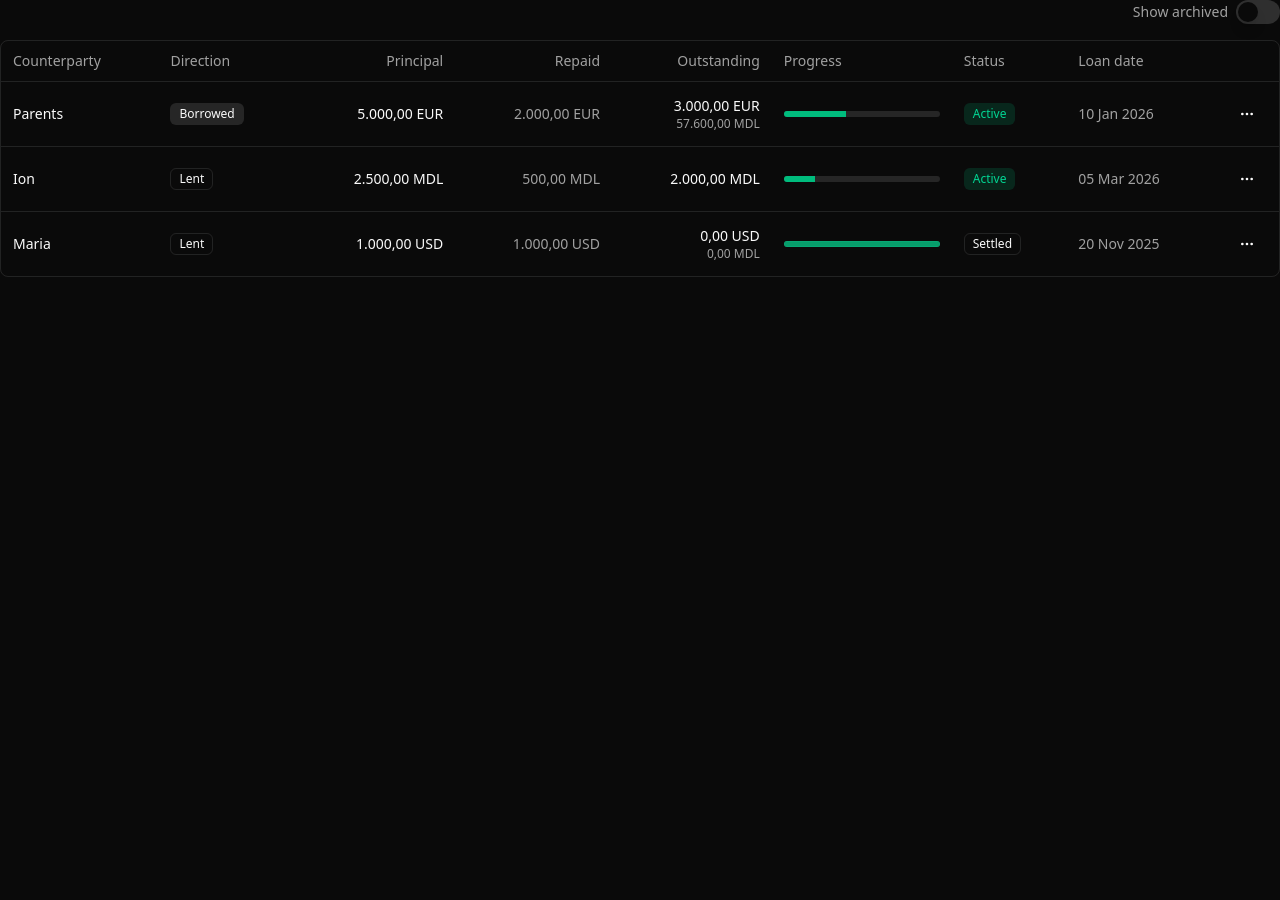
Scenario: LoansTable › opens then closes the Record-payment dialog from an active row
This screenshot has width=1280, height=900.
Click the button with test id "loan-actions" at (1247, 178), box [1227,158,1267,198]
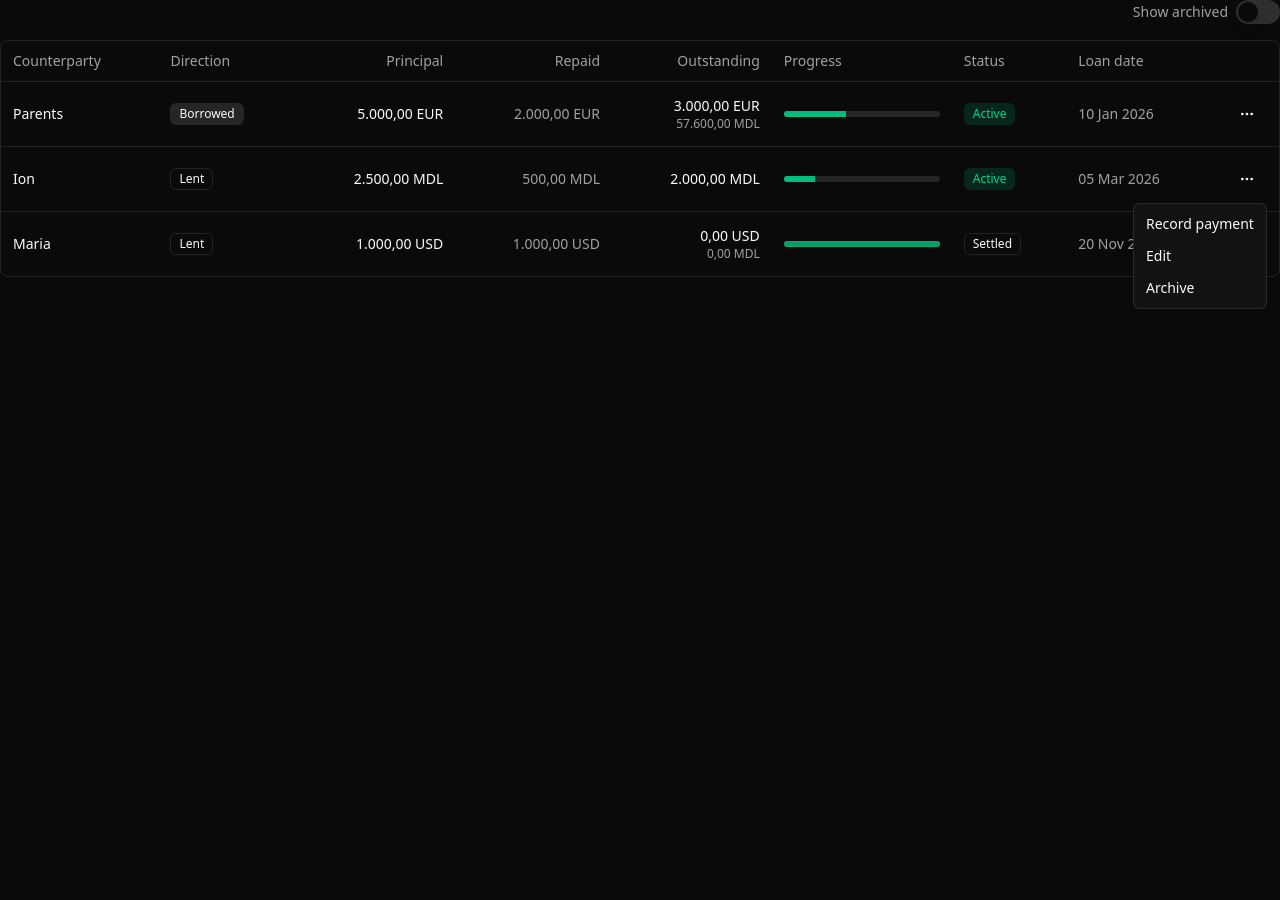
Click the menu item with test id "record-payment-action" at (1200, 224), box [1146,214,1254,233]
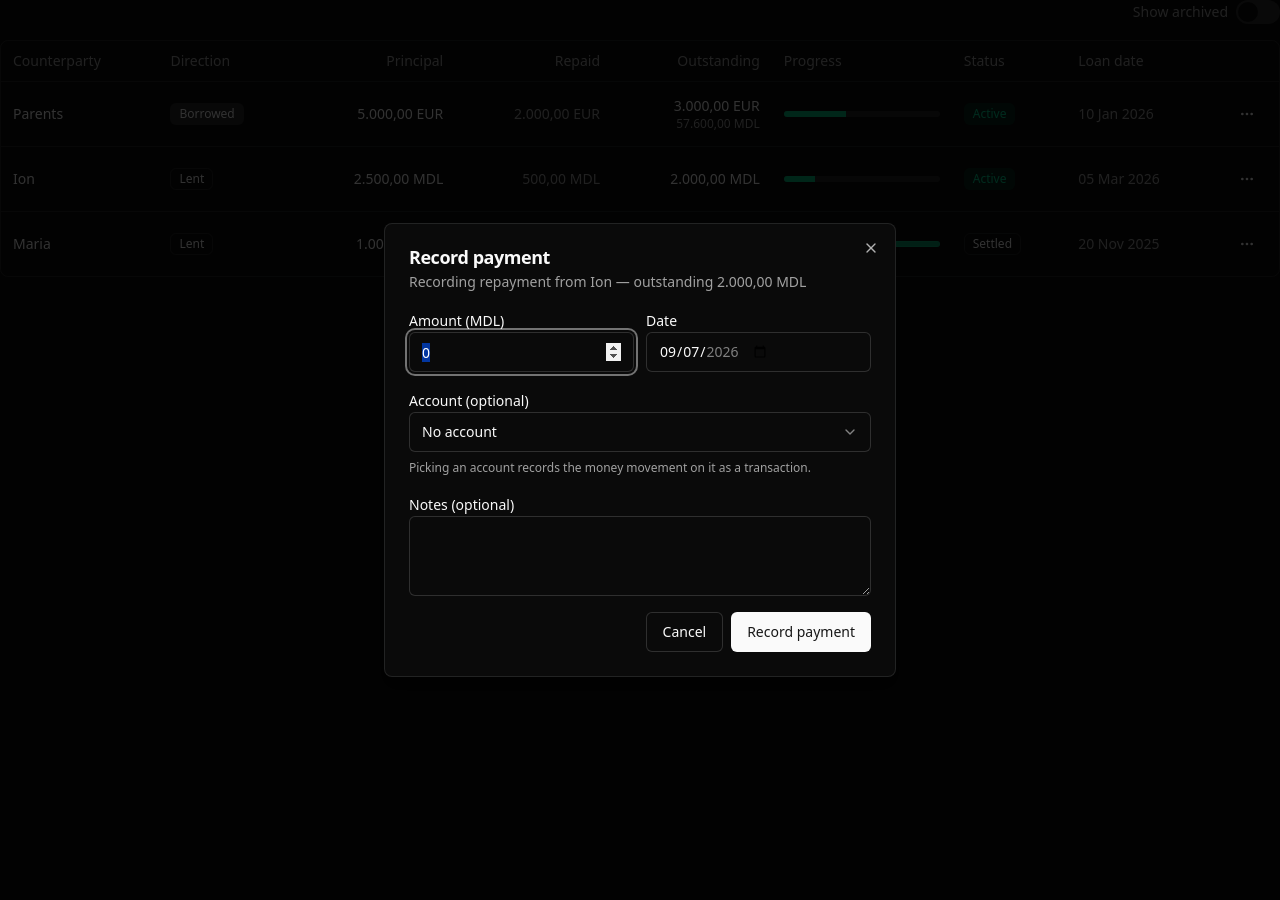
Expected: the dialog with test id "record-payment-dialog" is shown, [384,223,896,677]
Press Escape
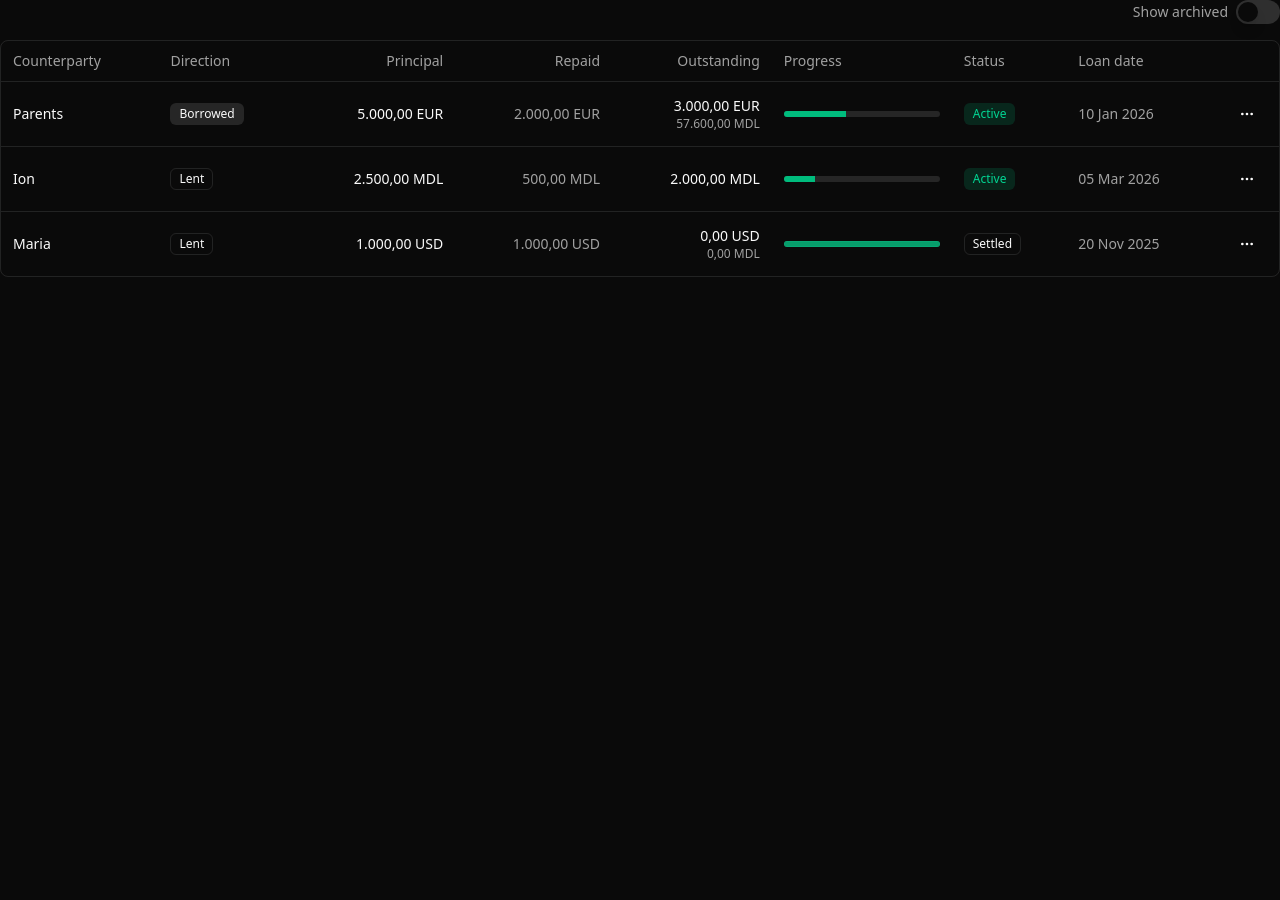
Expected: the dialog with test id "record-payment-dialog" is gone
